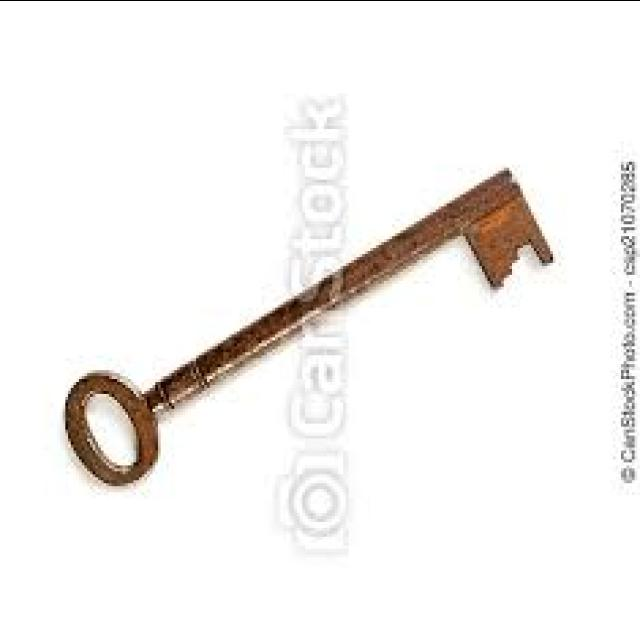key: (46, 125, 548, 507)
